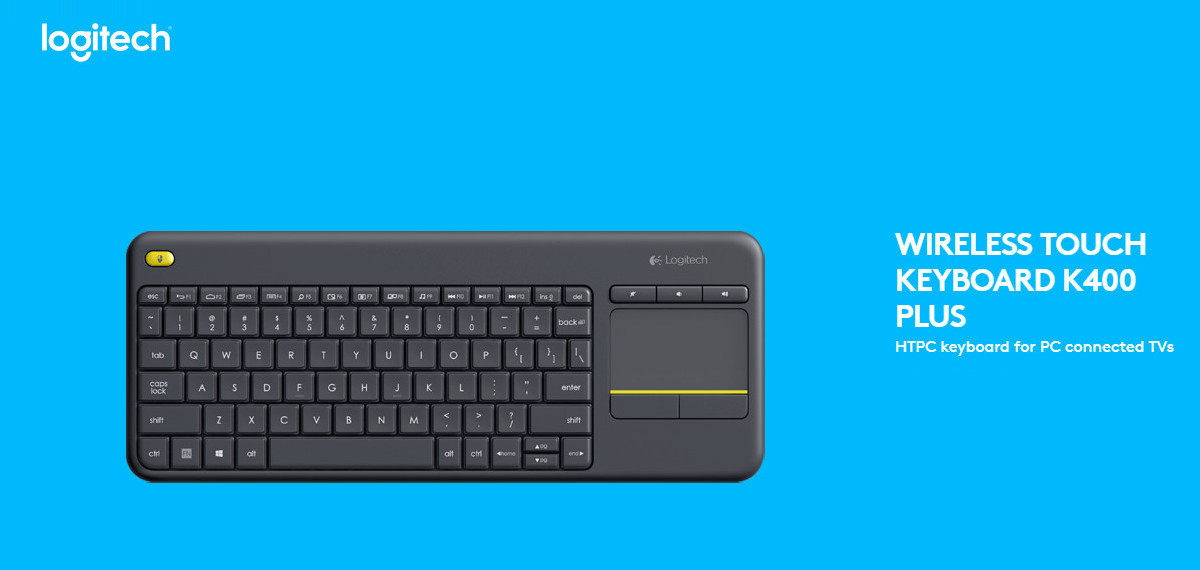logitech-keyboard-k400: (118, 233, 767, 482)
